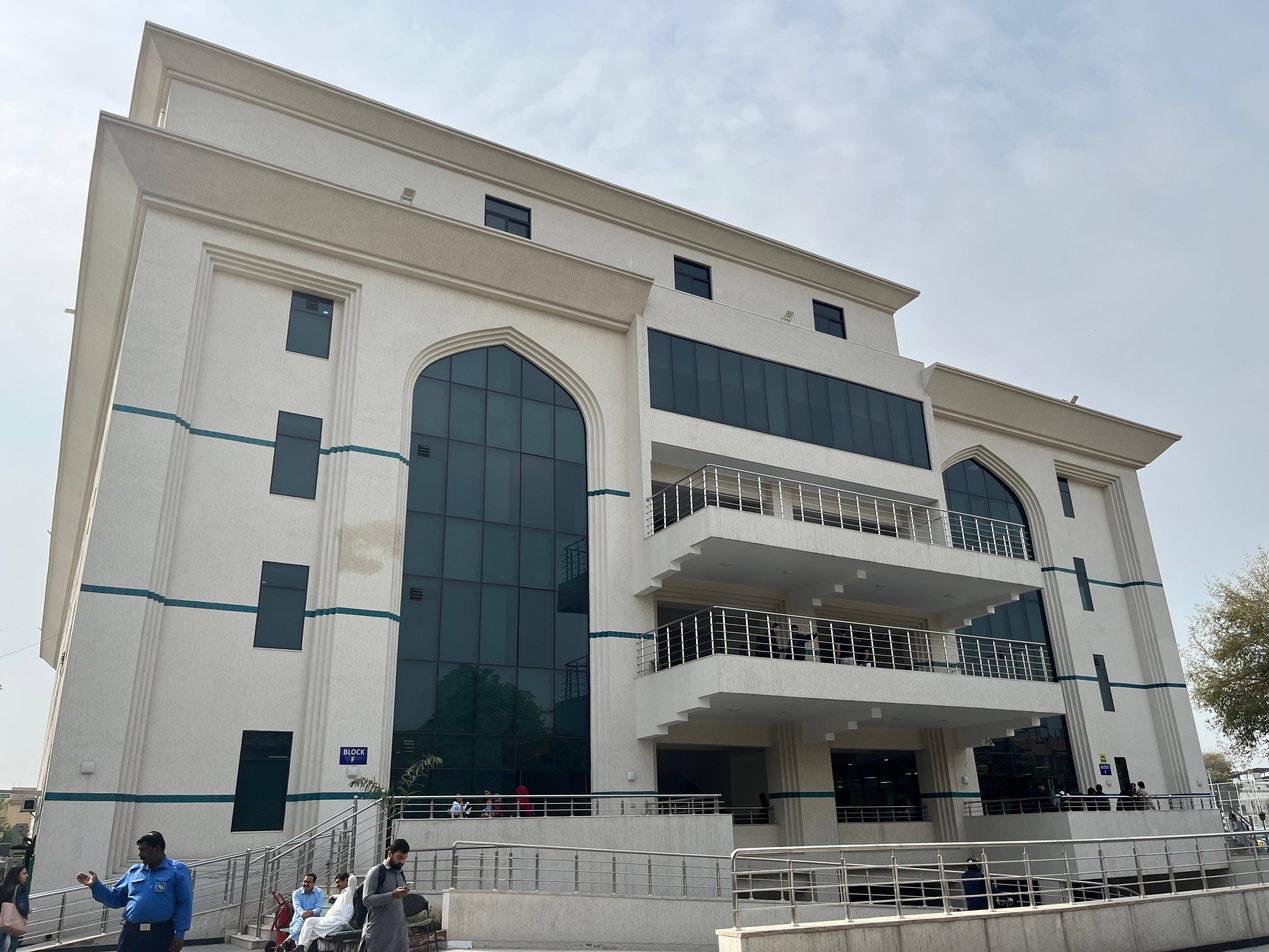Block F: (30, 26, 1269, 934)
